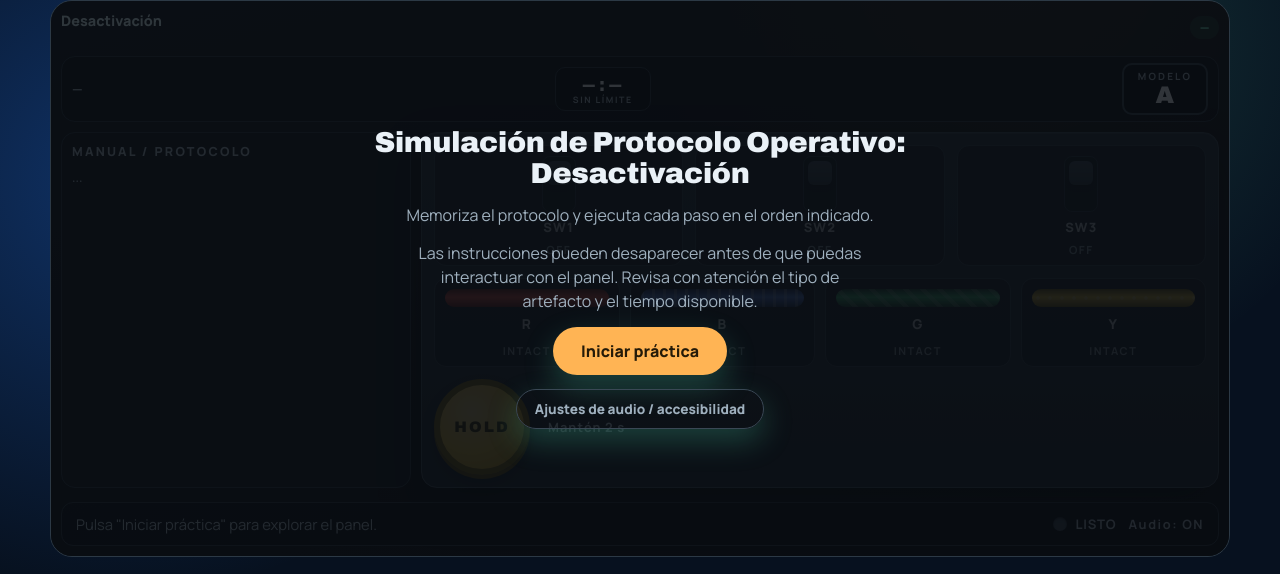
Test: BombDefusalGame — mundo + panel + HUD (B2) › práctica (S1): panel habilitado + overlay del nodo T1 (copy exacto §4.2) + label "Práctica"
Click the button with test id "bomb-start-practice".
click(640, 351)  # box [553,327,727,375]
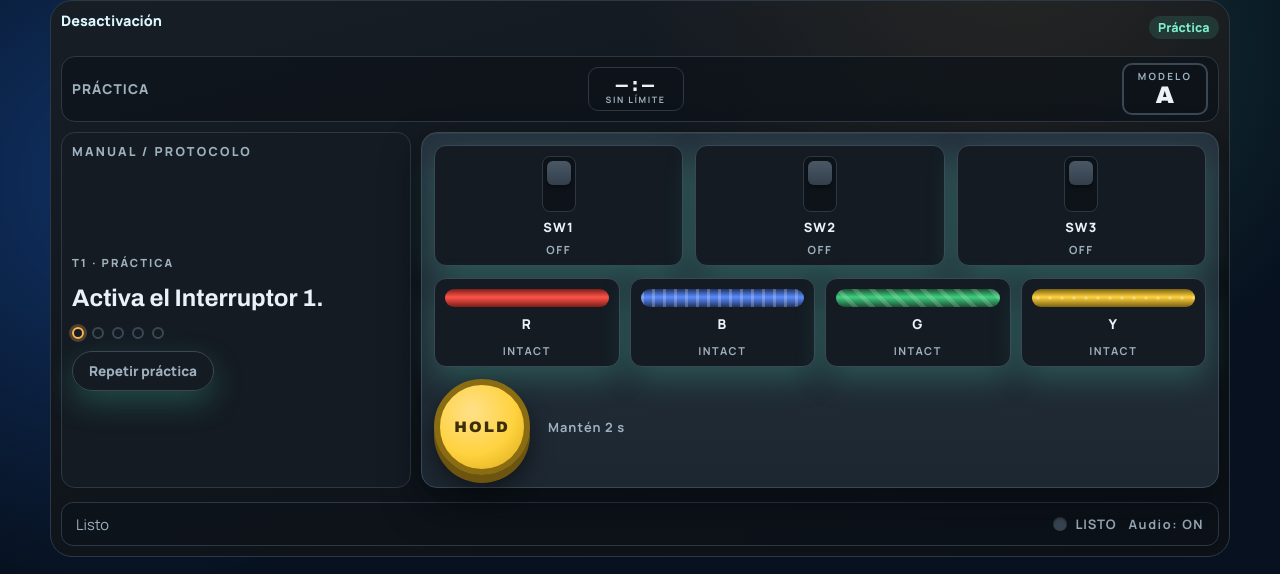
Expected: the button with test id "bomb-switch-SW_1" is enabled, [434,145,683,266]
Expected: the button with test id "bomb-hold-btn" is enabled, [434,379,530,475]
Expected: the text with test id "bomb-level" reads "Práctica", [1158,19,1209,36]
